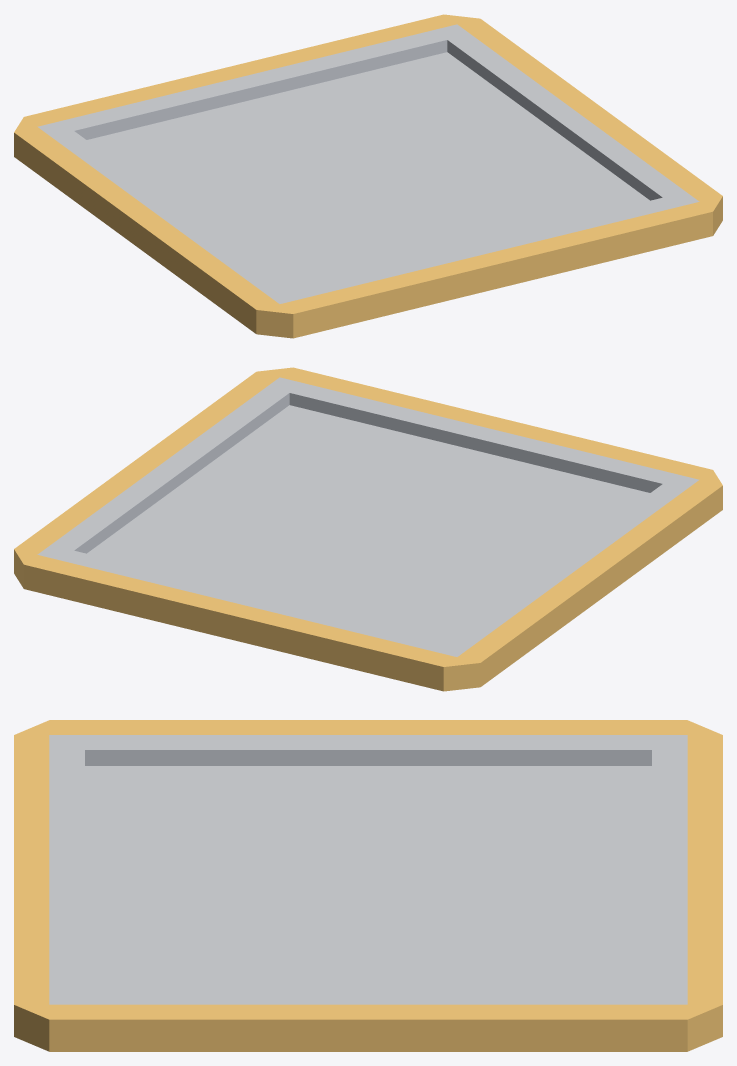
The model's file is platform_large.glb.
The picture shows the model from 3 angles, top to bottom: view 1: azimuth 30°, elevation 25°; view 2: azimuth 150°, elevation 25°; view 3: azimuth 270°, elevation 25°; orthographic projection. The views are drawn at different scales.
Parts seen in each view (by area): view 1: platform_large; view 2: platform_large; view 3: platform_large.
Part boxes in pixels (x1=…): platform_large: x1=14, y1=14, x2=722, y2=338; platform_large: x1=14, y1=367, x2=722, y2=691; platform_large: x1=14, y1=720, x2=722, y2=1051.
Size of the model in its own units: 2.6 by 0.13 by 2.6.
